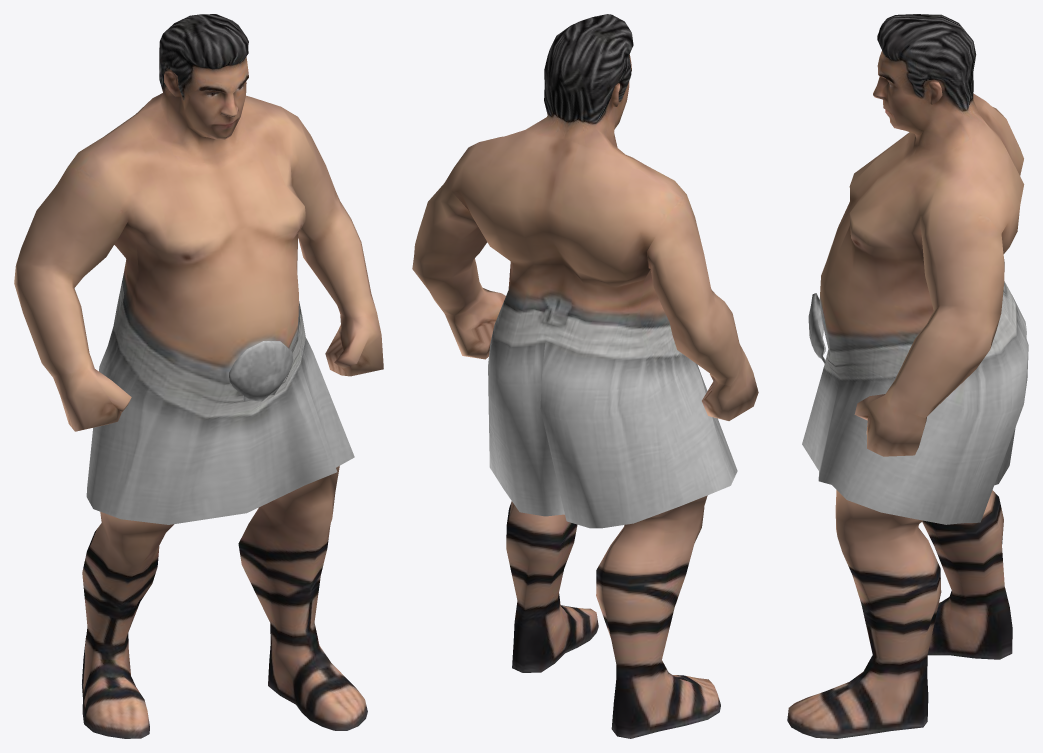
The model's file is body-base.glb.
The picture shows the model from 3 angles, left to right: view 1: azimuth 30°, elevation 25°; view 2: azimuth 150°, elevation 25°; view 3: azimuth 270°, elevation 25°; orthographic projection. The views are drawn at different scales.
Bounding box in the file's own units: 1.04 × 2.11 × 0.6909.
1 material, 1 textured.
